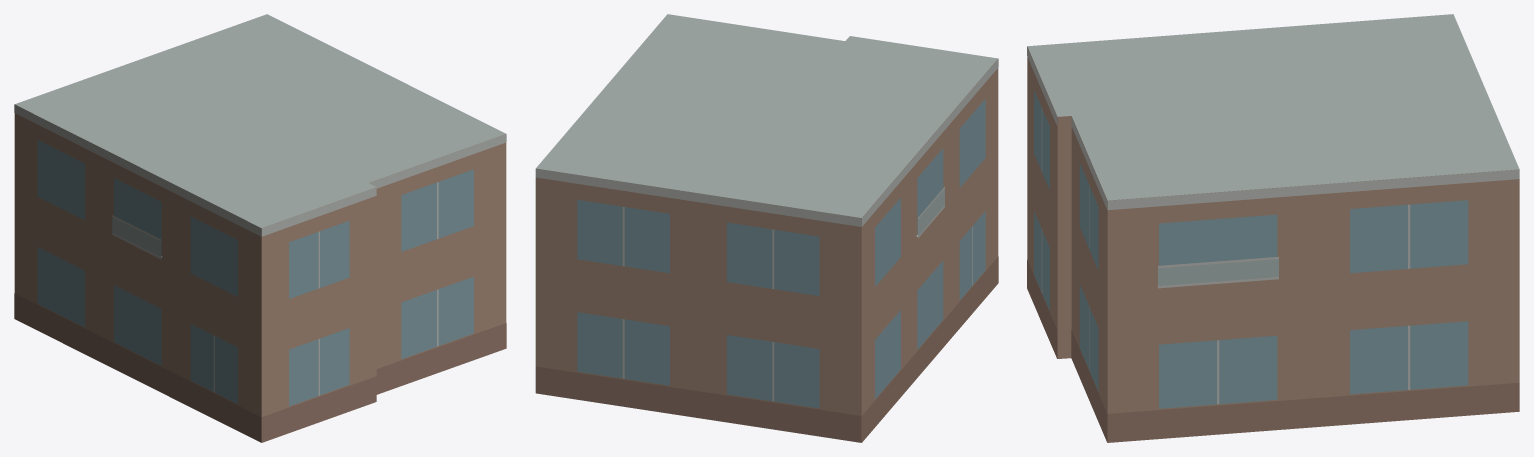
Rendered from survey-upis-32704833.glb.
3 renders of one model, left to right at view 1: azimuth 30°, elevation 25°; view 2: azimuth 150°, elevation 25°; view 3: azimuth 270°, elevation 25°, orthographic. The views are drawn at different scales.
Parts seen in each view (by area): view 1: survey-upis-32704833.tmp; view 2: survey-upis-32704833.tmp; view 3: survey-upis-32704833.tmp.
Part boxes in pixels (bbox=[...]): survey-upis-32704833.tmp: bbox=[14, 14, 506, 442]; survey-upis-32704833.tmp: bbox=[535, 14, 998, 442]; survey-upis-32704833.tmp: bbox=[1027, 14, 1519, 442].
Size of the model in its own units: 10.08 by 6.1 by 11.25.
